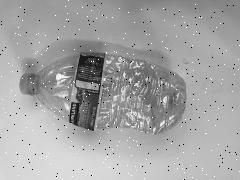plastic: (0, 31, 206, 163)
